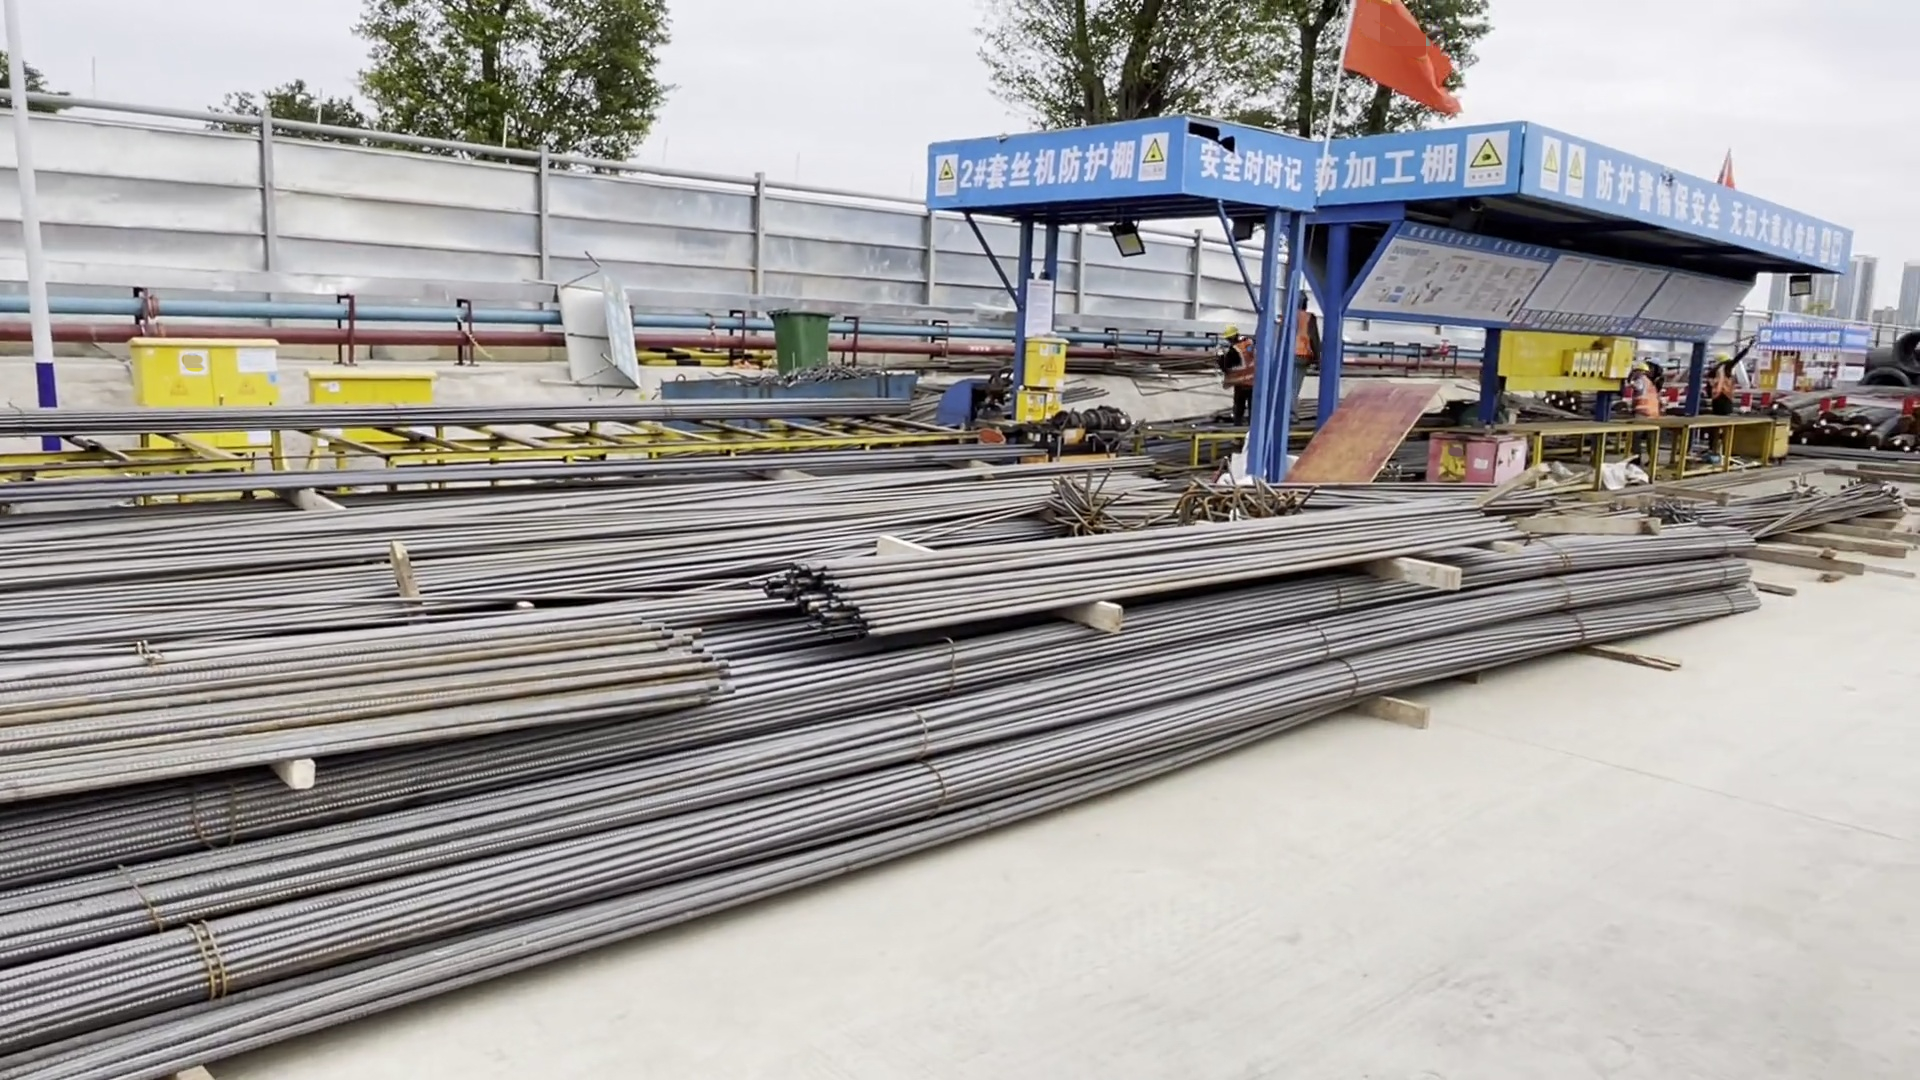board: (1288, 375, 1437, 482)
ebox: (127, 336, 283, 437), (305, 367, 431, 444), (1018, 334, 1070, 426), (1547, 335, 1625, 372)
fence: (1, 127, 914, 322)
helmet: (1223, 321, 1242, 335)
hopper: (656, 367, 923, 417)
person: (1696, 346, 1763, 470), (1219, 315, 1260, 430), (1624, 353, 1677, 438), (1289, 290, 1315, 412)
rebar: (1, 487, 1787, 1036)
slogan: (1536, 139, 1846, 279), (933, 139, 1162, 200), (1307, 131, 1517, 198), (1193, 129, 1306, 194)
vest: (1633, 377, 1667, 427), (1710, 361, 1738, 415), (1289, 311, 1318, 363), (1232, 340, 1260, 392)
